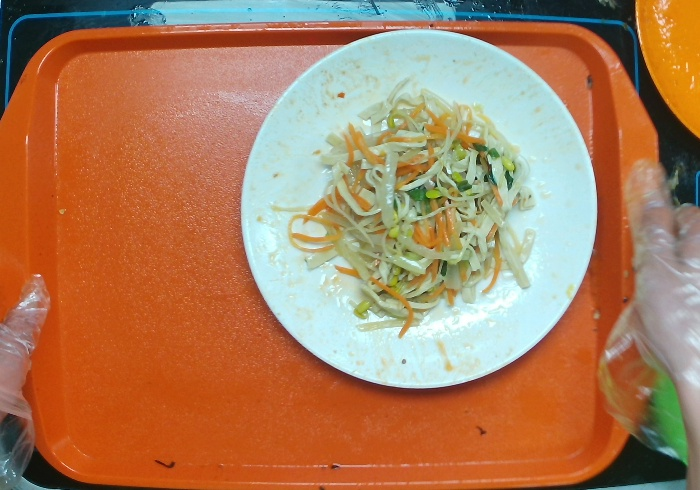HZYJPL-Bai_Se_Yuan_Pan: (235, 30, 600, 393)
